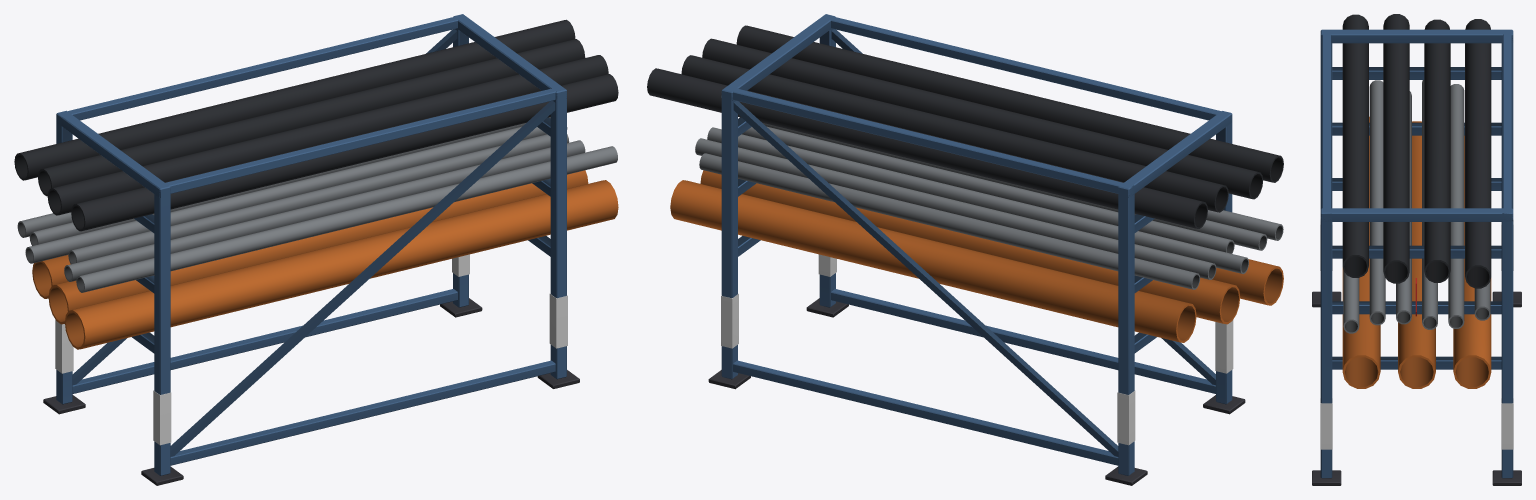
File: PipeRack.fbx
3 views of the same model, side by side, from view 1: azimuth 30°, elevation 25°; view 2: azimuth 150°, elevation 25°; view 3: azimuth 270°, elevation 25° (orthographic). The views are drawn at different scales.
Parts seen in each view (by area): view 1: PipeRack; view 2: PipeRack; view 3: PipeRack.
Part boxes in pixels (x1,y1,x2,y2): PipeRack: (14,14,618,485); PipeRack: (647,14,1283,485); PipeRack: (1312,14,1521,485).
Size of the model in its own units: 4.14 by 2.04 by 1.44.
